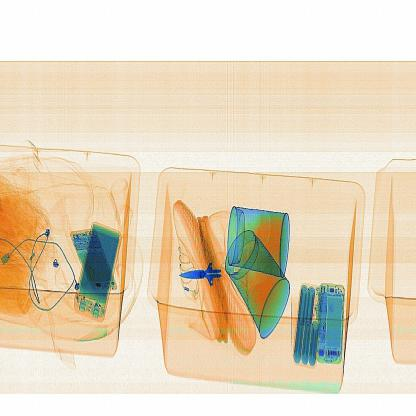gun: (177, 246, 237, 304)
